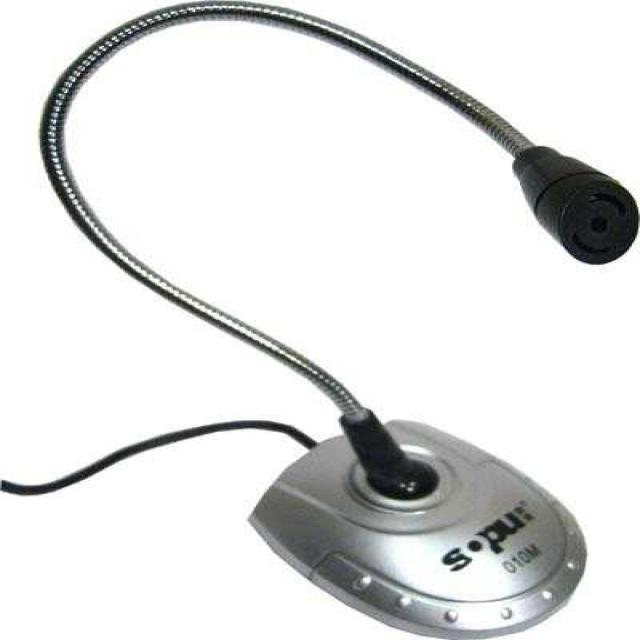microphone: (456, 115, 635, 260)
